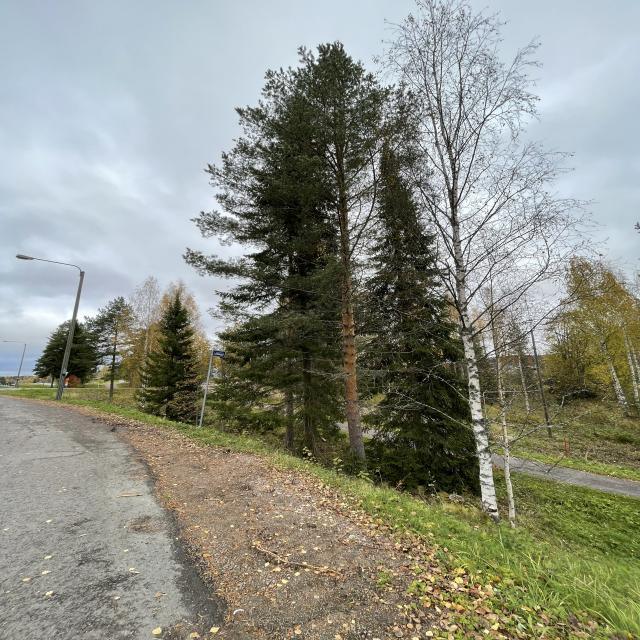spruce: (361, 144, 492, 506), (220, 112, 324, 460), (133, 295, 206, 422), (28, 304, 94, 398)
